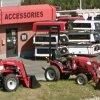Tractor: (41, 37, 100, 95)
